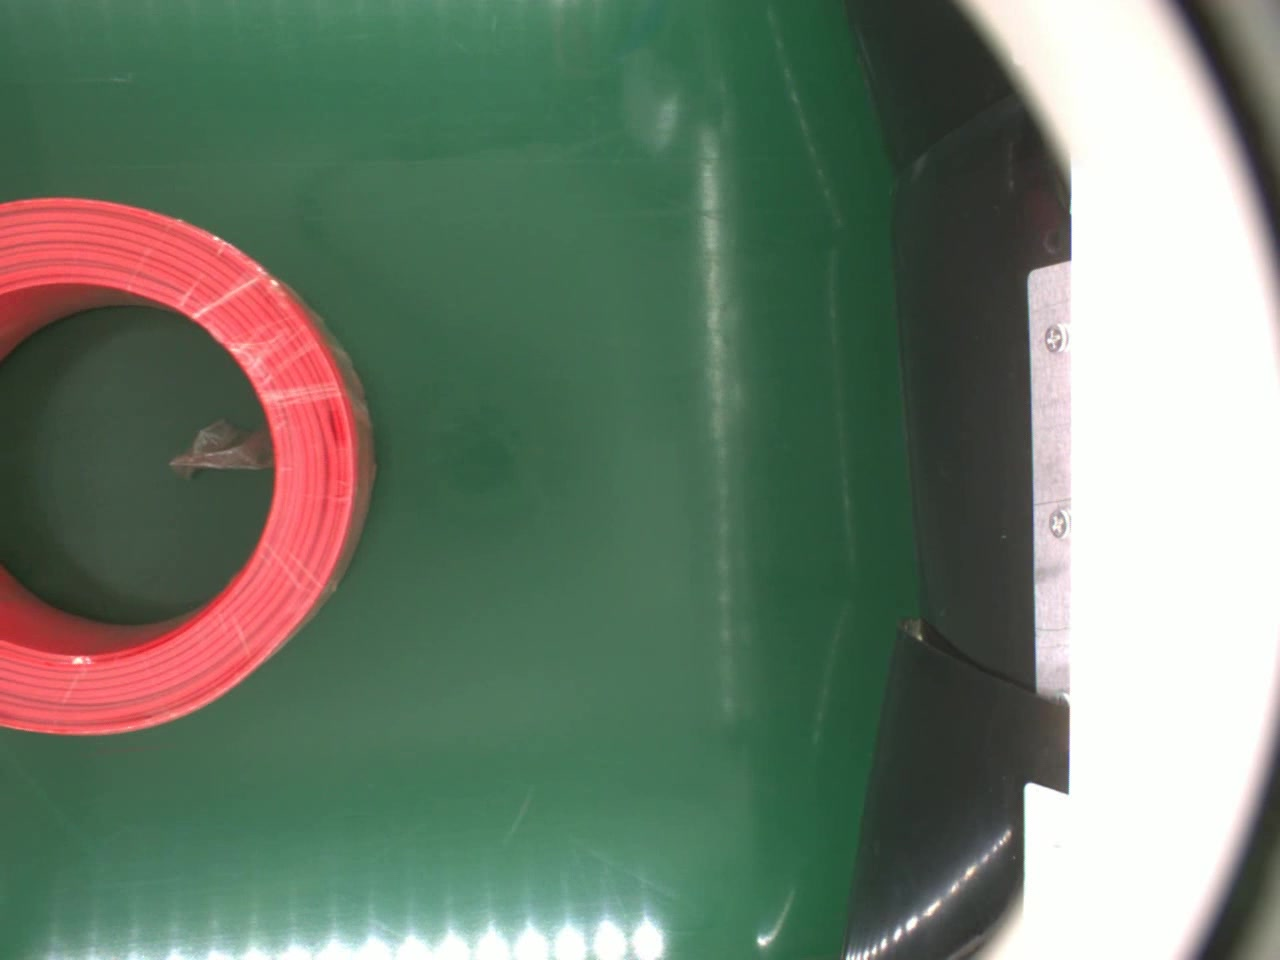red: (0, 196, 378, 739)
